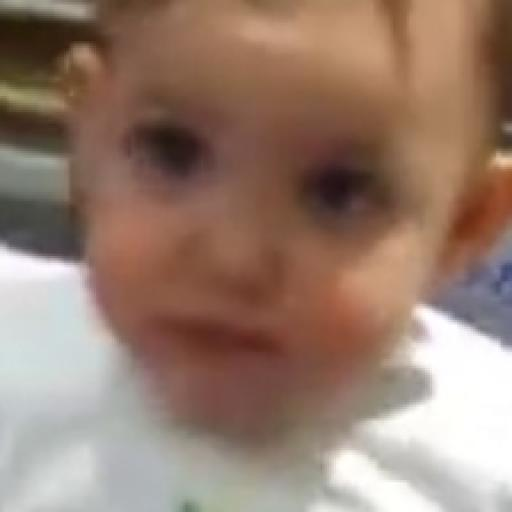Autism: (70, 10, 490, 440)
